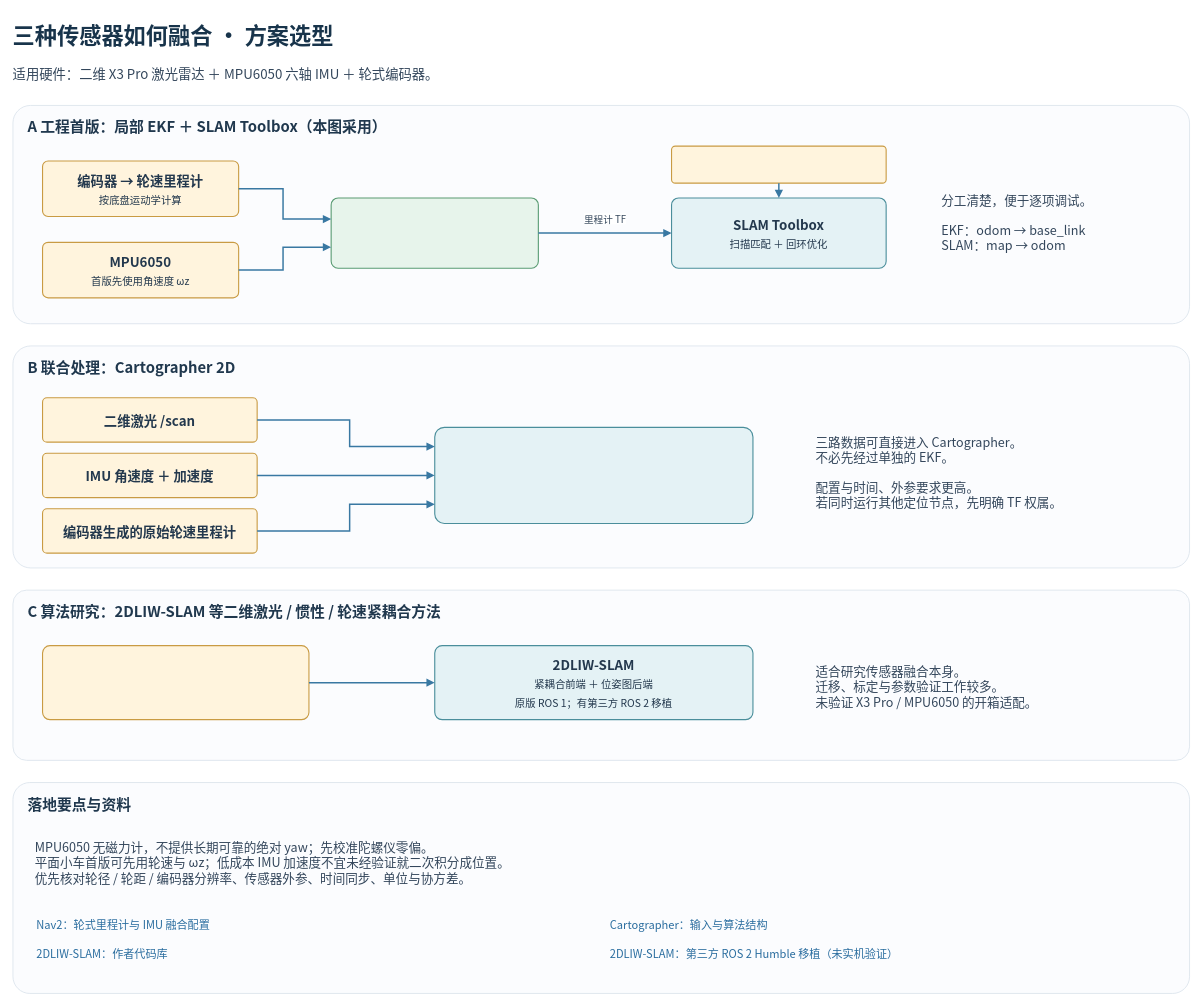
This 1203x1006 diagram has some shape labels left out. The shapes that lost their labels are listed below. From the top down, each one's centre as x and y in pixels, then its label:
At (x=778, y=164): "X3 Pro 激光扫描".
At (x=434, y=232): "robot_localization / EKF 平滑连续的局部 odom".
At (x=593, y=475): "Cartographer 2D 运动预测 ＋ 扫描匹配 子地图 ＋ 位姿图优化 / 回环".
At (x=175, y=682): "激光 ＋ IMU ＋ 轮速约束 在同一估计框架中联合优化".
